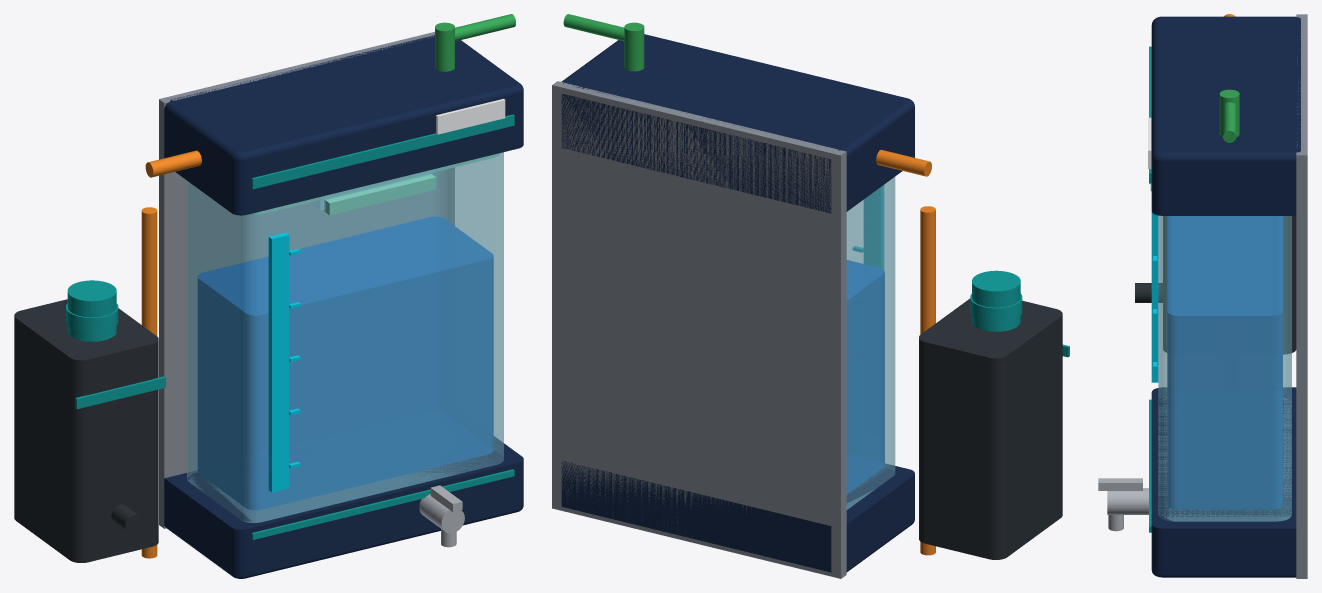
The model's file is aqualoop.glb.
3 views of the same model, side by side, from view 1: azimuth 30°, elevation 25°; view 2: azimuth 150°, elevation 25°; view 3: azimuth 270°, elevation 25° (orthographic).
Parts seen in each view (by area): view 1: tank, tank_detail1, housing, distribution, housing_detail1, level, housing_detail2, overflow, safeguard, tank_detail2, inlet, tap (+2 smaller); view 2: housing_detail1, housing, distribution, tank, tank_detail1, overflow, safeguard, inlet, level; view 3: housing, tank, tank_detail1, housing_detail1, distribution, tap, level, inlet, housing_detail2.
Boxes of the visible parts, box(x1,y1,x2,y2) form: tank: box(187, 152, 503, 522); tank_detail1: box(197, 216, 493, 510); housing: box(164, 35, 523, 578); distribution: box(14, 299, 158, 562); housing_detail1: box(159, 32, 454, 528); level: box(268, 232, 300, 492); housing_detail2: box(251, 114, 514, 539); overflow: box(141, 150, 201, 558); safeguard: box(66, 280, 118, 341); tank_detail2: box(249, 153, 500, 215); inlet: box(435, 14, 515, 71); tap: box(419, 485, 464, 547); housing_detail1: box(552, 81, 846, 578); housing: box(561, 34, 914, 572); distribution: box(919, 298, 1062, 559); tank: box(846, 177, 895, 509); tank_detail1: box(846, 260, 884, 493); overflow: box(876, 149, 935, 555); safeguard: box(970, 270, 1022, 331); inlet: box(563, 14, 644, 71); level: box(853, 185, 883, 269); housing: box(1151, 16, 1300, 577); tank: box(1158, 215, 1291, 521); tank_detail1: box(1167, 216, 1282, 509); housing_detail1: box(1296, 14, 1307, 578); distribution: box(1135, 216, 1296, 354); tap: box(1098, 478, 1148, 531); level: box(1151, 211, 1158, 382); inlet: box(1219, 89, 1239, 142); housing_detail2: box(1149, 46, 1151, 532).
Bounding box in the file's own units: 0.486 × 0.46 × 0.188.
